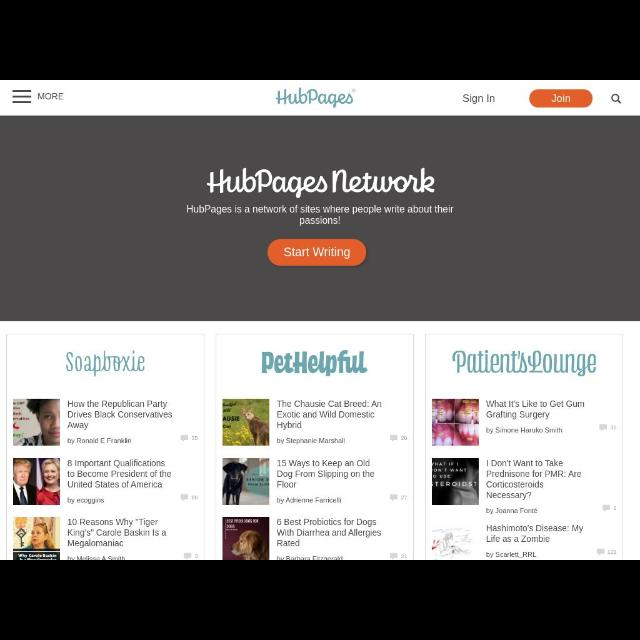icon: (12, 90, 32, 104), (610, 94, 622, 105), (389, 434, 398, 442), (389, 493, 398, 501), (181, 435, 189, 443), (181, 494, 189, 502), (599, 424, 607, 432), (602, 504, 610, 512), (597, 548, 605, 556), (389, 553, 398, 559), (184, 553, 192, 559)
image: (207, 165, 436, 199), (452, 350, 596, 378), (262, 349, 366, 376), (65, 350, 145, 378), (13, 399, 59, 445), (13, 458, 59, 504), (223, 399, 269, 445), (223, 458, 269, 504), (432, 399, 478, 445), (432, 459, 478, 505), (14, 516, 60, 560), (224, 516, 270, 560), (275, 86, 357, 108), (432, 526, 478, 560)
text: (186, 204, 456, 226), (486, 459, 582, 501), (276, 400, 382, 430), (276, 518, 382, 548), (68, 401, 172, 431), (68, 459, 172, 489), (67, 518, 167, 548), (277, 459, 375, 488), (485, 400, 585, 420), (486, 524, 584, 542), (276, 437, 346, 445), (67, 437, 131, 445), (485, 428, 563, 434), (461, 93, 495, 105), (276, 498, 342, 504), (486, 508, 538, 514), (486, 552, 538, 558), (67, 497, 105, 505), (276, 555, 344, 559), (37, 92, 65, 101), (68, 555, 126, 559), (606, 549, 618, 555), (400, 495, 408, 501), (400, 436, 408, 440), (400, 554, 408, 558), (609, 426, 617, 430), (192, 436, 198, 440), (192, 496, 198, 500), (613, 506, 617, 512), (195, 554, 199, 558)
textbutton: (268, 238, 366, 266), (529, 90, 593, 106)
